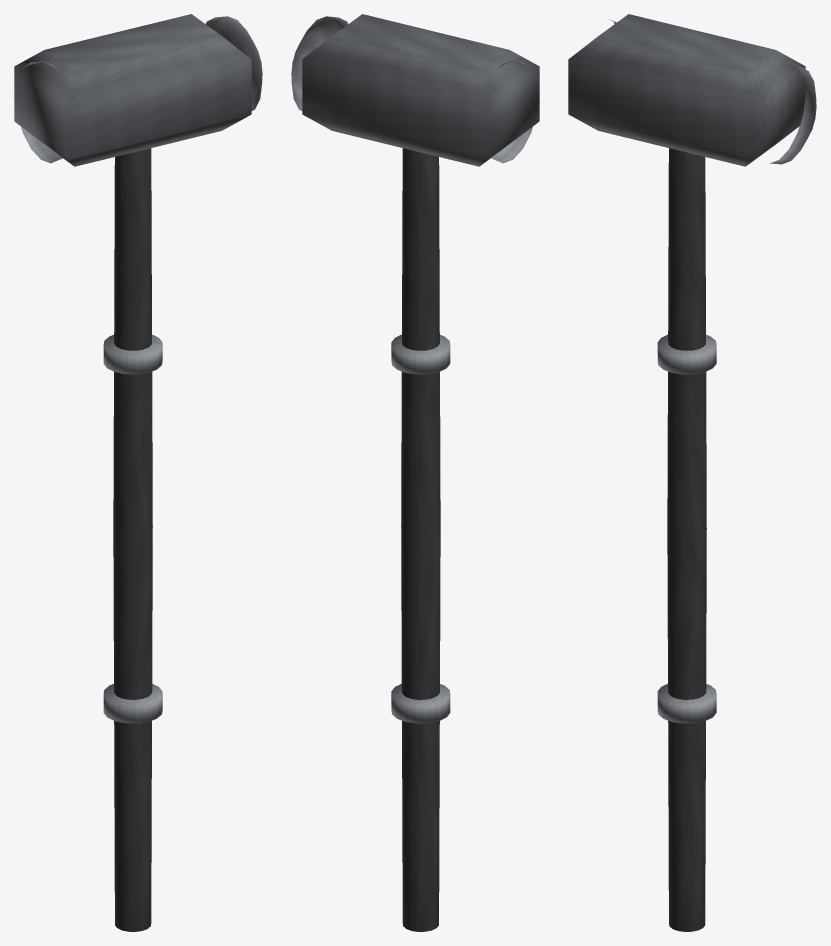
The model's file is generic_hammer.glb.
3 views of the same model, side by side, from view 1: azimuth 30°, elevation 25°; view 2: azimuth 150°, elevation 25°; view 3: azimuth 330°, elevation 25° (orthographic).
Visible parts, largest first — view 1: War Hammer; view 2: War Hammer; view 3: War Hammer.
Part boxes in pixels (x1,y1,x2,y2): War Hammer: (14, 14, 262, 931); War Hammer: (291, 14, 539, 931); War Hammer: (568, 14, 816, 931).
Bounding box in the file's own units: 0.2445 × 0.9775 × 0.105.
3 materials, 3 textured.
